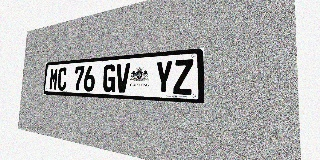6: (83, 65, 96, 92)
7: (73, 66, 85, 91)
C: (57, 67, 67, 91)
G: (102, 64, 116, 92)
M: (49, 68, 59, 90)
V: (115, 63, 130, 93)
Y: (155, 60, 173, 94)
Z: (173, 59, 193, 95)
